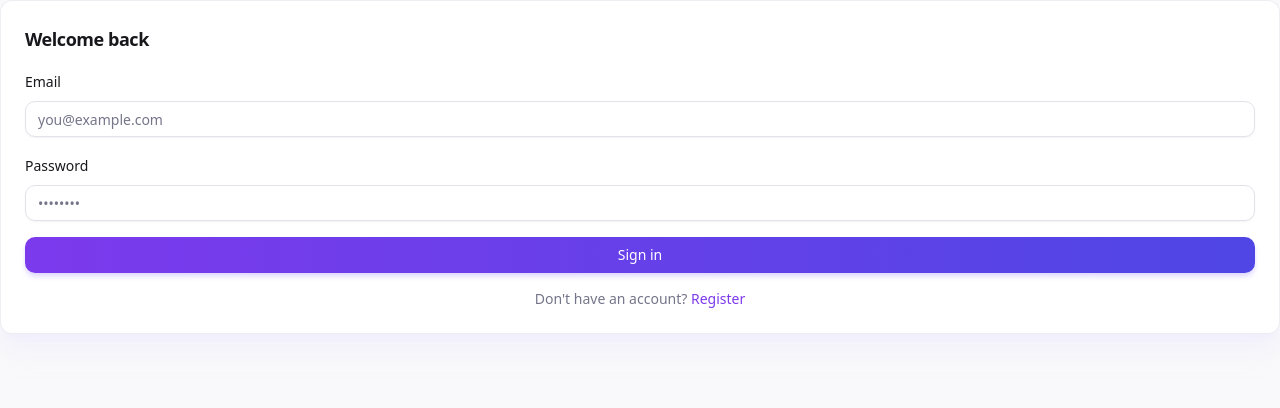
Test: LoginForm › shows Zod validation errors for empty submit
Click the button with test id "login-form-submit-button" at [640, 255], box [25, 237, 1255, 273]
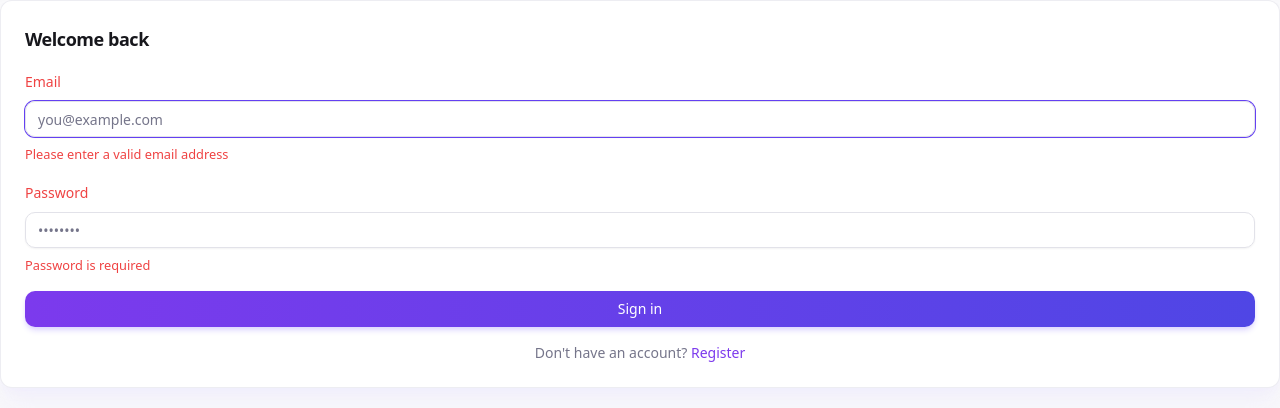
Now the text "Please enter a valid email address" is shown, box [25, 145, 228, 163]
